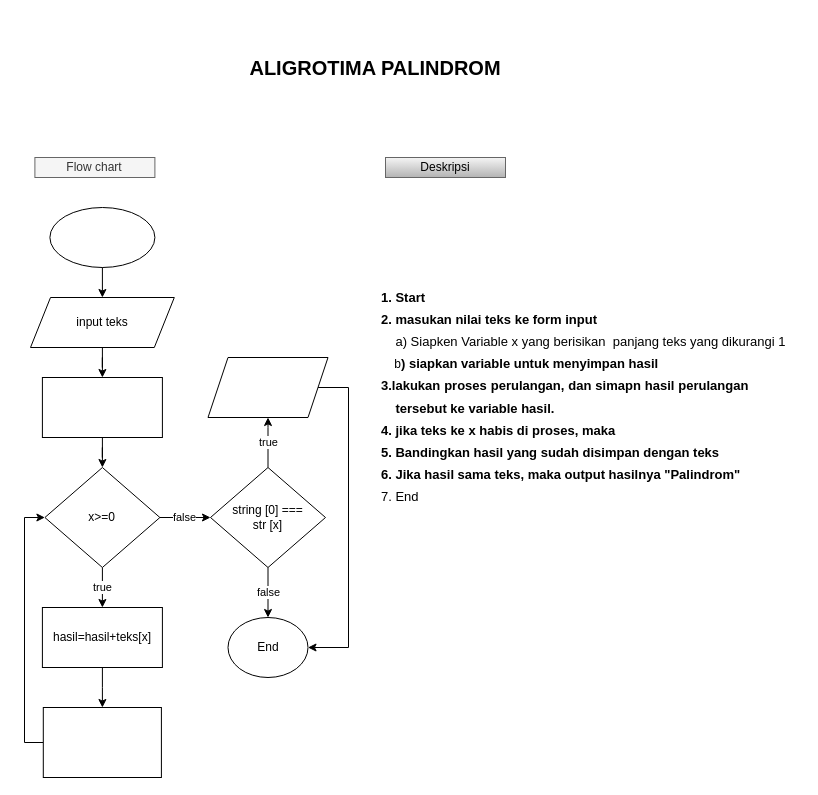
This 818x795 diagram has some shape labels left out. Here are the shapes that lost their labels. From the top down, the box of each, then its label:
(49, 206, 155, 268): Start
(41, 376, 162, 438): hasil='', x=teks.length-1
(207, 356, 328, 418): mencetak "palindrom"
(42, 706, 161, 778): x=x-1
